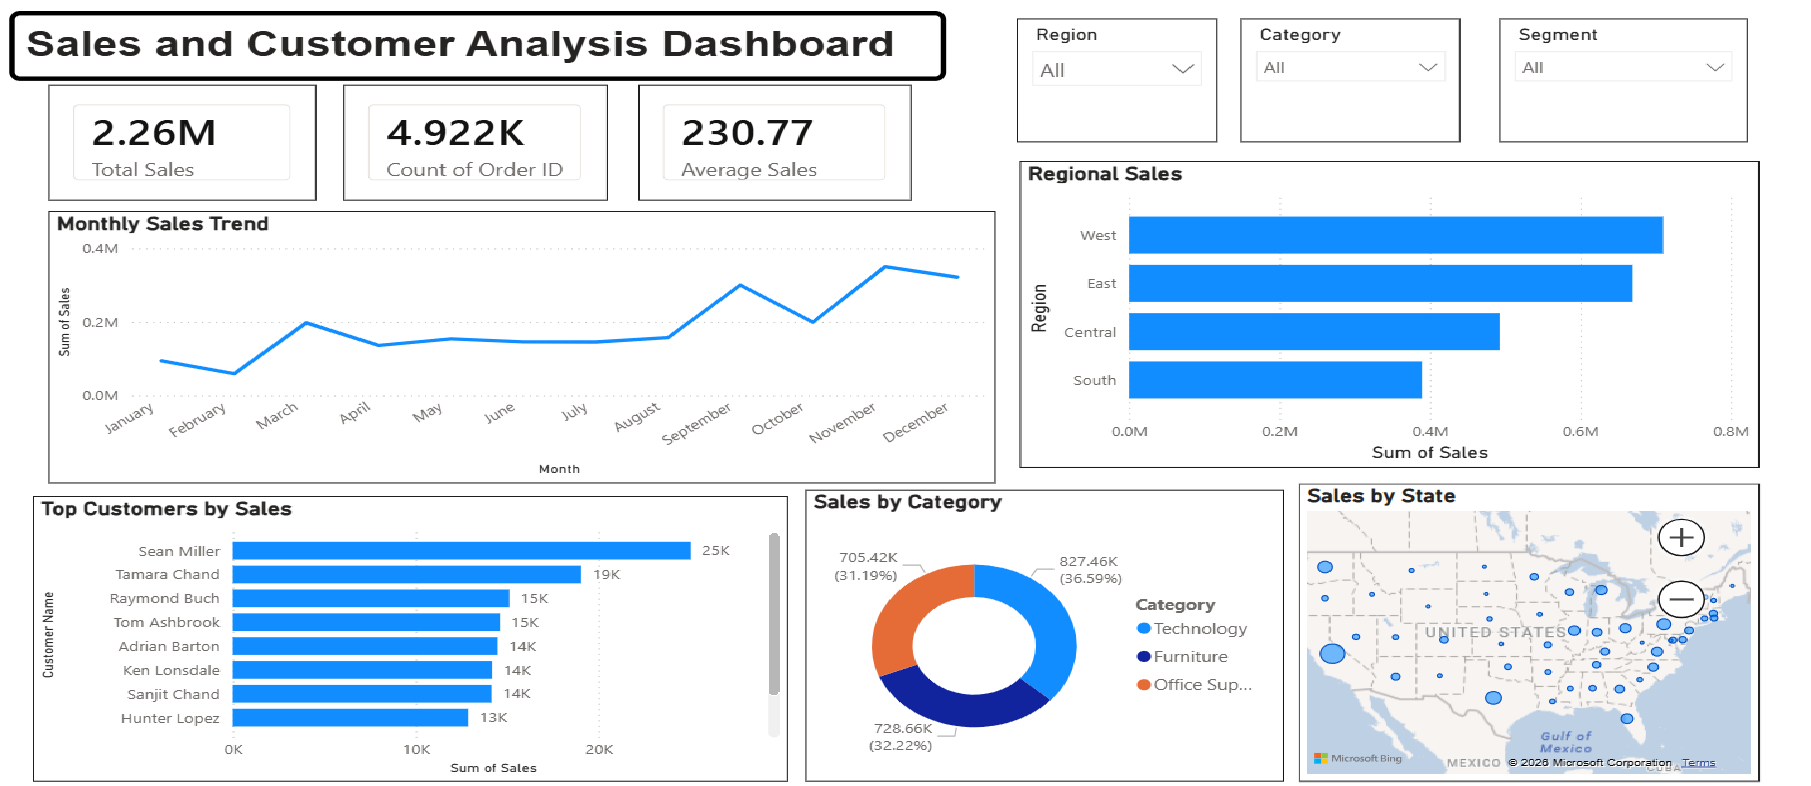

Layout of this report page (visuals, bound fields, positions):
{"tool":"powerbi","page":{"name":"Page 1","canvas":[1280,720],"ordinal":0},"visuals":[{"type":"textbox","box":[9.7,18,671.9,63.6],"z":0},{"type":"cardVisual","fields":{"Data":["Sum(superstore.Sales)"]},"box":[38.7,84.3,192.2,105.1],"z":1000},{"type":"cardVisual","fields":{"Data":["Count(superstore.Order ID)"]},"box":[250.2,84.3,189.4,105.1],"z":2000},{"type":"cardVisual","fields":{"Data":["superstore.Average Sales"]},"box":[461.8,84.3,196.3,105.1],"z":3000},{"type":"lineChart","title":"Monthly Sales Trend","fields":{"Category":["superstore.Order Date.Variation.Date Hierarchy.Month"],"Y":["Sum(superstore.Sales)"]},"box":[38.7,199.1,678.9,246.1],"z":4000},{"type":"clusteredBarChart","title":"Regional Sales","fields":{"Category":["superstore.Region"],"Y":["Sum(superstore.Sales)"]},"box":[734.9,153.5,530.2,277.9],"z":5000},{"type":"donutChart","title":"Sales by Category","fields":{"Category":["superstore.Category"],"Y":["Sum(superstore.Sales)"]},"box":[580.7,450.7,342.9,264.1],"z":6000},{"type":"barChart","title":"Top Customers by Sales","fields":{"Category":["superstore.Customer Name"],"Y":["Sum(superstore.Sales)"]},"box":[27.7,456.3,542,258.5],"z":7000},{"type":"slicer","fields":{"Values":["superstore.Region"]},"box":[732.8,24.9,143.8,112],"z":8000},{"type":"slicer","fields":{"Values":["superstore.Category"]},"box":[893.2,24.9,157.6,112],"z":9000},{"type":"slicer","fields":{"Values":["superstore.Segment"]},"box":[1078.4,24.9,178.4,112],"z":10000},{"type":"map","title":"Sales by State","fields":{"Category":["superstore.State"],"Size":["Sum(superstore.Sales)"]},"box":[934.6,445.2,330.4,269.6],"z":11000}]}

Visuals, with their boxes on the page's 1280x720 design canvas (x1, y1, x2, y2). These are canvas units, not pixel positions in the 1811x786 screenshot, which may show the page scaled, cropped or inside an application window:
textbox: <bbox>10, 18, 682, 82</bbox>
cardVisual - Sum(superstore.Sales): <bbox>39, 84, 231, 189</bbox>
cardVisual - Count(superstore.Order ID): <bbox>250, 84, 440, 189</bbox>
cardVisual - superstore.Average Sales: <bbox>462, 84, 658, 189</bbox>
"Monthly Sales Trend" lineChart: <bbox>39, 199, 718, 445</bbox>
"Regional Sales" clusteredBarChart: <bbox>735, 154, 1265, 431</bbox>
"Sales by Category" donutChart: <bbox>581, 451, 924, 715</bbox>
"Top Customers by Sales" barChart: <bbox>28, 456, 570, 715</bbox>
slicer - superstore.Region: <bbox>733, 25, 877, 137</bbox>
slicer - superstore.Category: <bbox>893, 25, 1051, 137</bbox>
slicer - superstore.Segment: <bbox>1078, 25, 1257, 137</bbox>
"Sales by State" map: <bbox>935, 445, 1265, 715</bbox>
